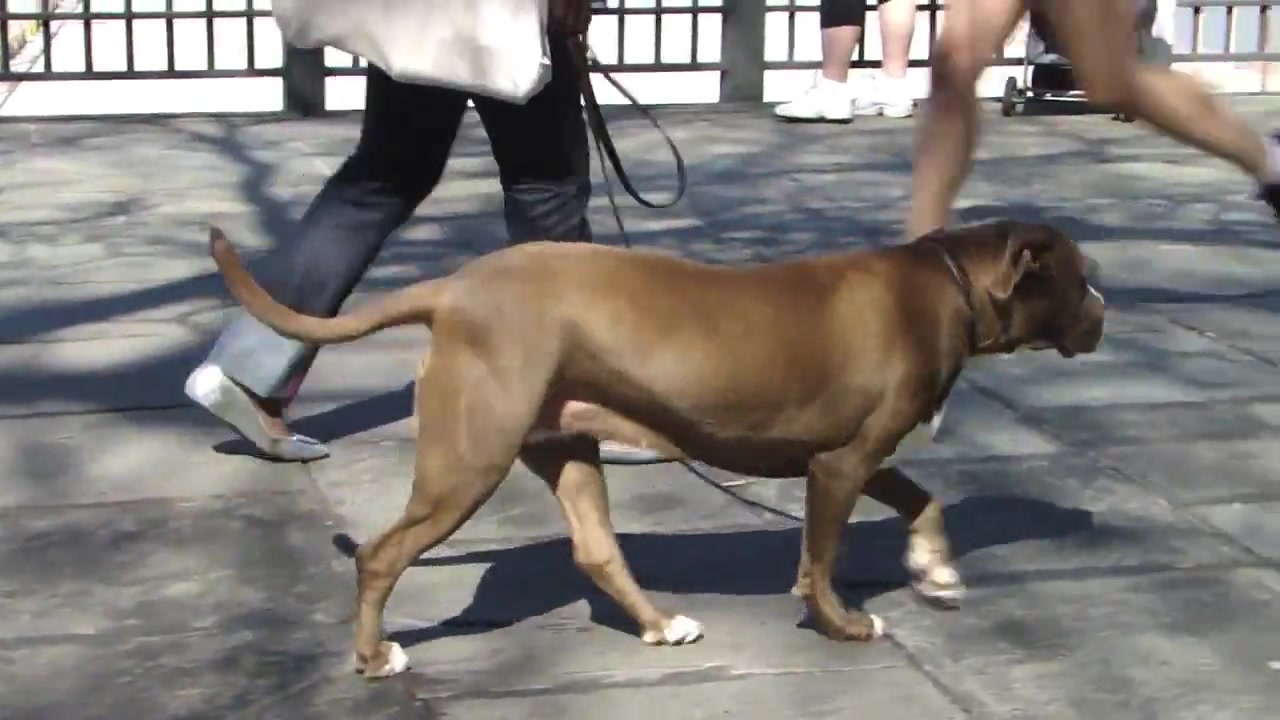dog: (202, 215, 1110, 680)
